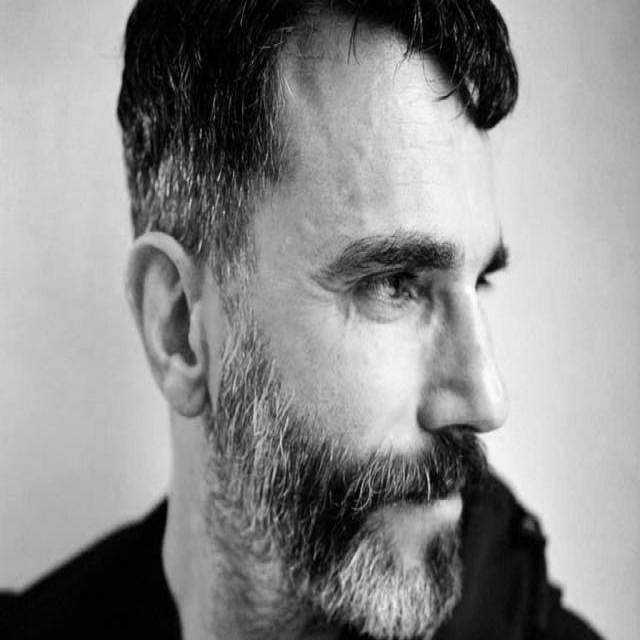no-earmuff: (113, 211, 233, 442)
